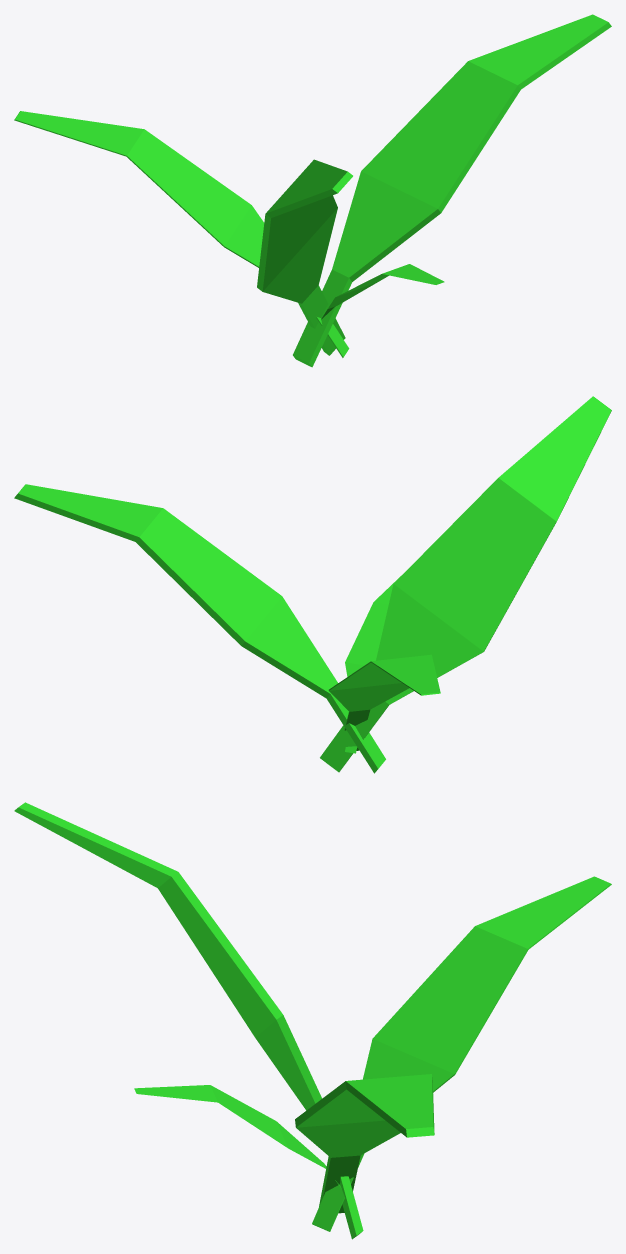
Rendered from plant.fbx.
The picture shows the model from 3 angles, top to bottom: view 1: azimuth 30°, elevation 25°; view 2: azimuth 150°, elevation 25°; view 3: azimuth 270°, elevation 25°; orthographic projection. The views are drawn at different scales.
Visible parts, largest first — view 1: Plane.044; view 2: Plane.044; view 3: Plane.044.
Boxes of the visible parts, bbox=[...] form: Plane.044: bbox=[14, 14, 611, 367]; Plane.044: bbox=[14, 396, 611, 773]; Plane.044: bbox=[14, 802, 611, 1239].
Size of the model in its own units: 377 by 222 by 327.
